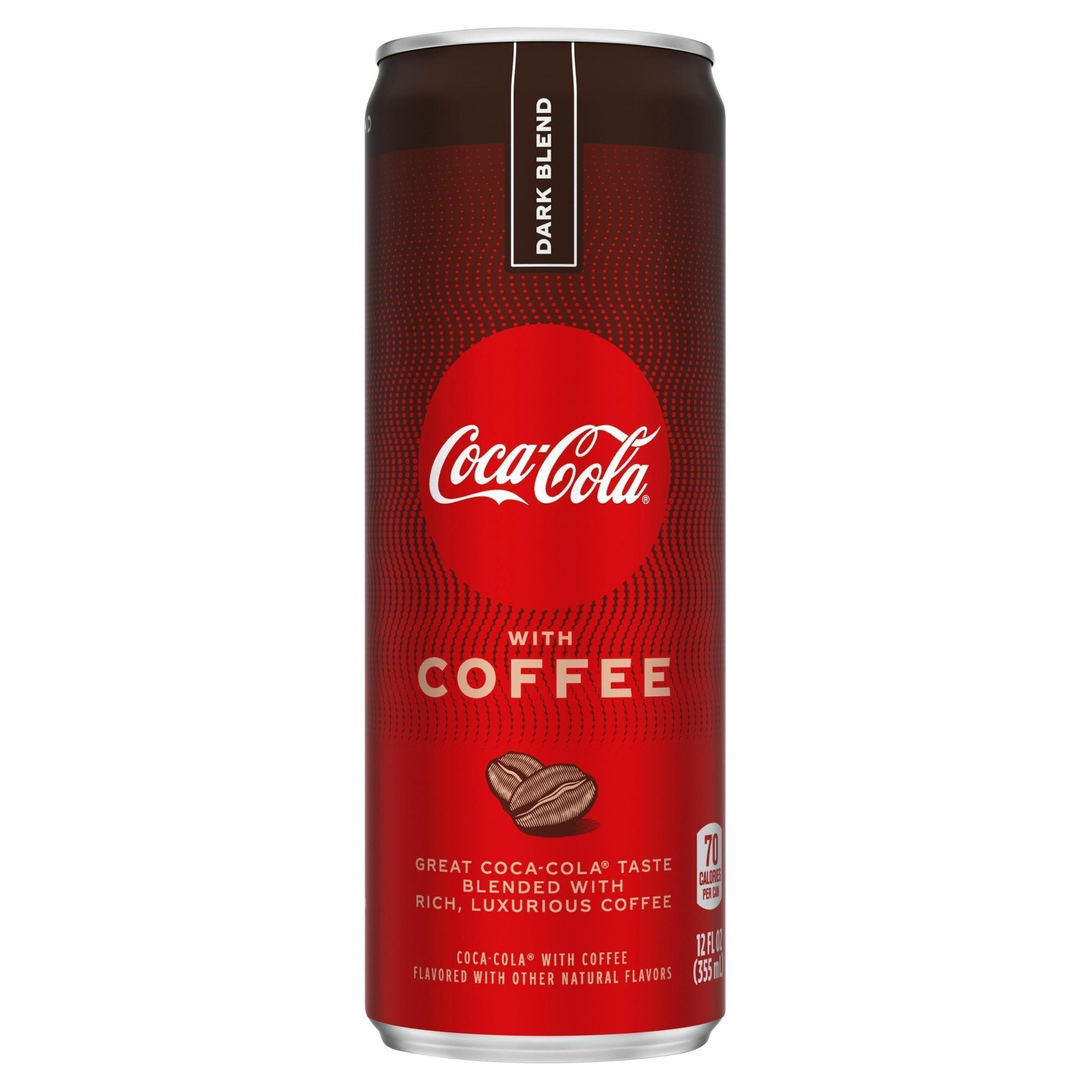tin can: (362, 16, 733, 1071)
